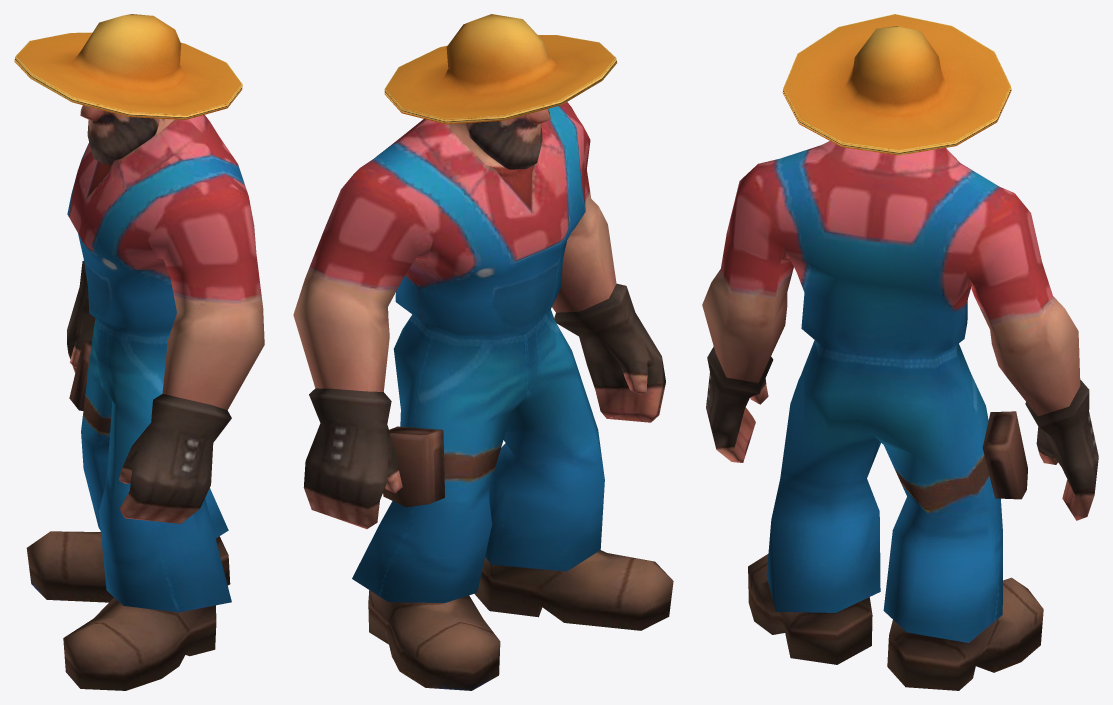
The picture shows the model from 3 angles, left to right: view 1: azimuth 30°, elevation 25°; view 2: azimuth 150°, elevation 25°; view 3: azimuth 270°, elevation 25°; orthographic projection.
Visible parts, largest first — view 1: 男主; view 2: 男主; view 3: 男主.
Boxes of the visible parts, x1,y1,x2,y2 form: 男主: (14, 14, 264, 690); 男主: (293, 14, 673, 690); 男主: (702, 14, 1098, 690).
Bounding box in the file's own units: 1.41 × 3.47 × 2.03.
2 materials, 2 textured.
